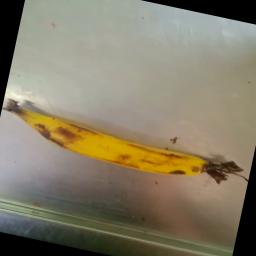Banana Rotten: (0, 85, 256, 205)
